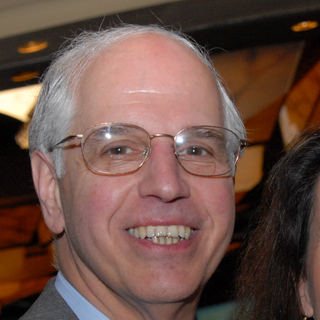eye: (173, 141, 219, 162), (98, 141, 140, 161)
